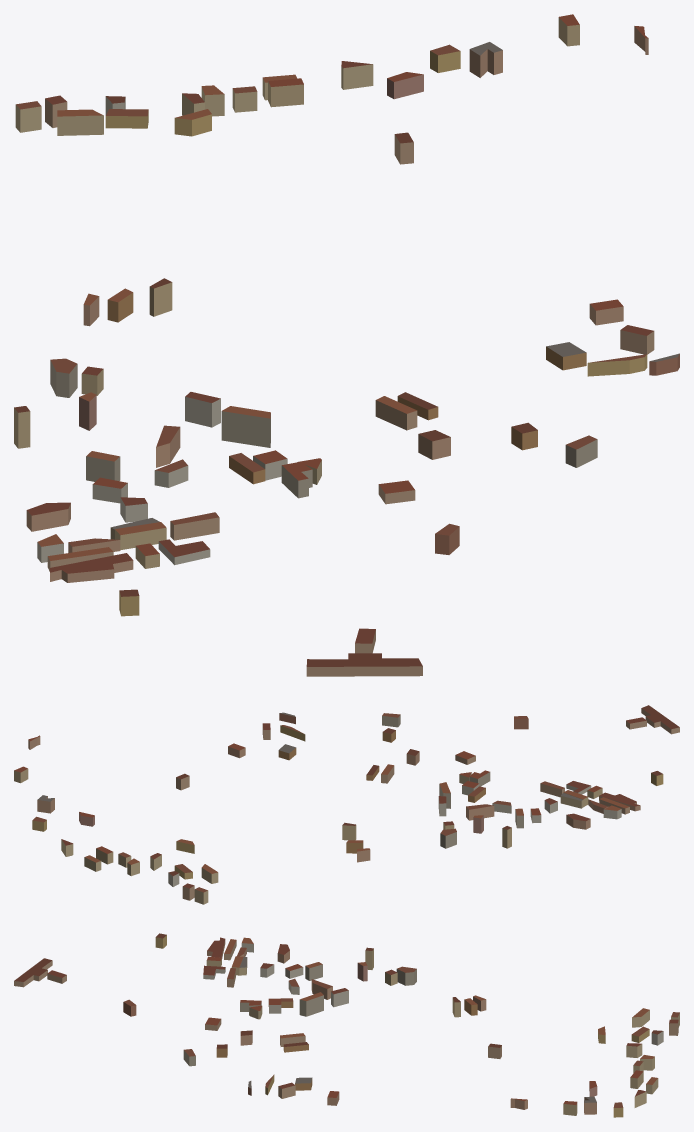
The model's file is SM_Fondale_Citta_Colle_06_LOD2.fbx.
3 views of the same model, one above another, from view 1: azimuth 30°, elevation 25°; view 2: azimuth 150°, elevation 25°; view 3: azimuth 270°, elevation 25° (orthographic). The views are drawn at different scales.
Parts seen in each view (by area): view 1: SM_Fondale_Citta_Colle_06_LOD2; view 2: SM_Fondale_Citta_Colle_06_LOD2; view 3: SM_Fondale_Citta_Colle_06_LOD2.
Boxes of the visible parts, x1,y1,x2,y2 form: SM_Fondale_Citta_Colle_06_LOD2: [14, 14, 679, 676]; SM_Fondale_Citta_Colle_06_LOD2: [14, 705, 679, 904]; SM_Fondale_Citta_Colle_06_LOD2: [14, 933, 679, 1117].
Bounding box in the file's own units: 82706 × 102122 × 11736.
